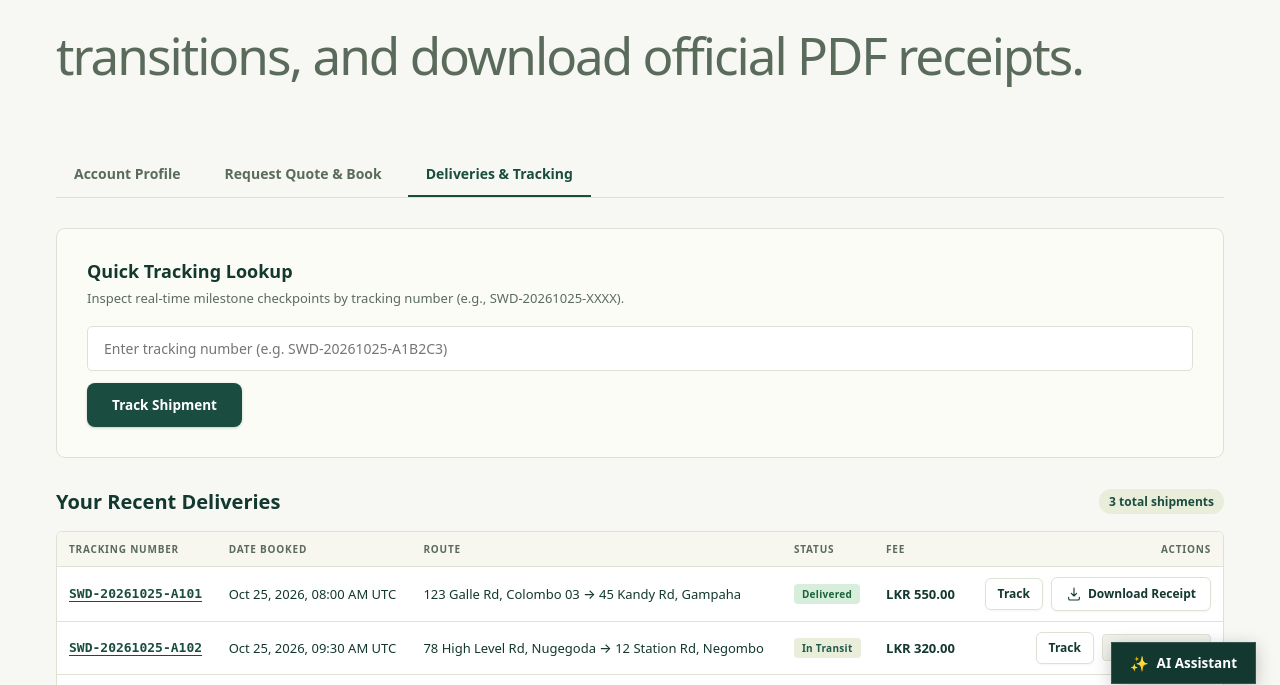
it: Customer History & Tracking View (Issue #27 / LATER-01) › customer tracking modal & milestone view › allows searching a tracking number via quick lookup
The image size is (1280, 685).
(page scrolled)
Check: the button "SWD-20261025-A101" is shown, box x1=69 y1=586 x2=202 y2=601
Type "f47ac10b-58cc-4372-a567-0e02b2c3d401" into the field named "tracking number or parcel reference". click: (640,348)
box: x1=87 y1=326 x2=1193 y2=371
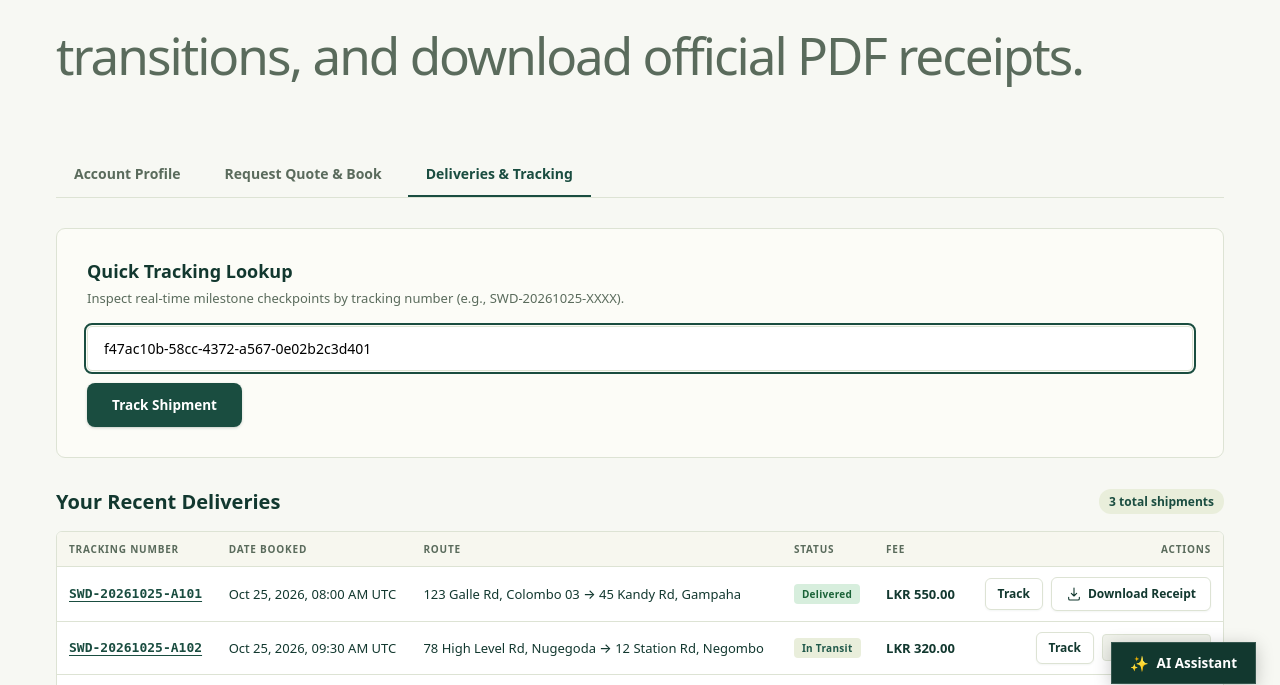
Click the button "Track Shipment". click: (164,405)
box: x1=87 y1=383 x2=242 y2=427
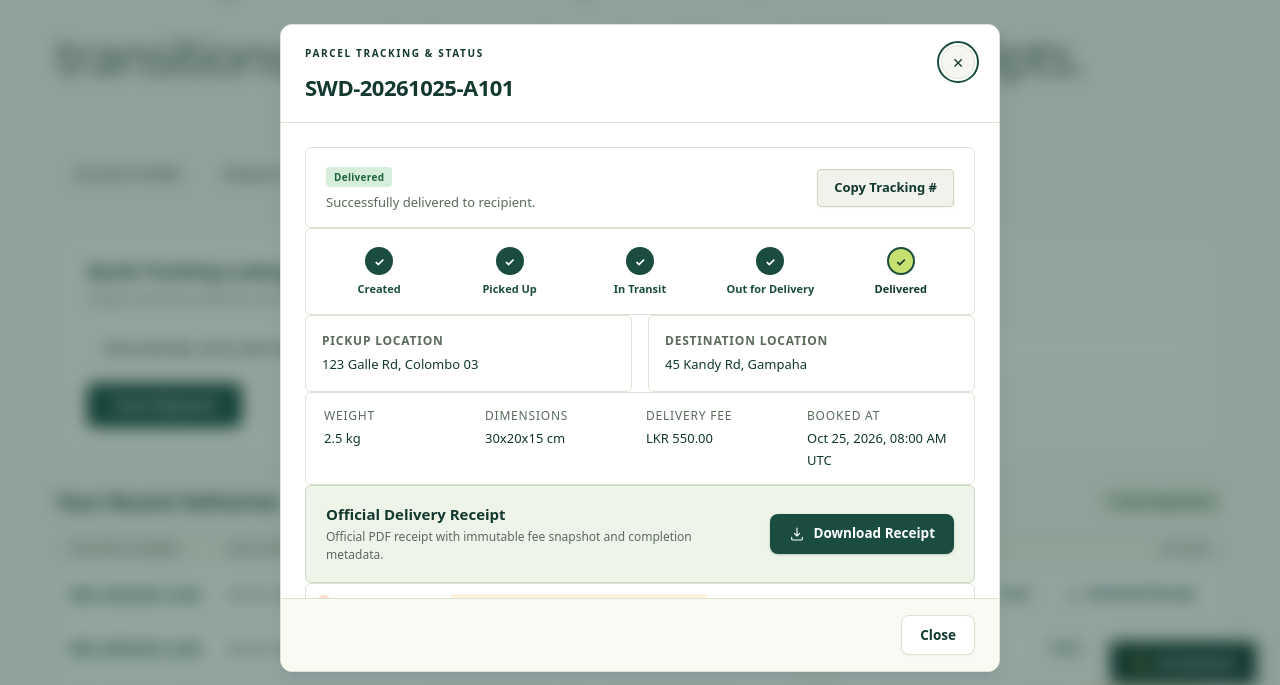
Check: the dialog is shown, box x1=280 y1=24 x2=1000 y2=672
